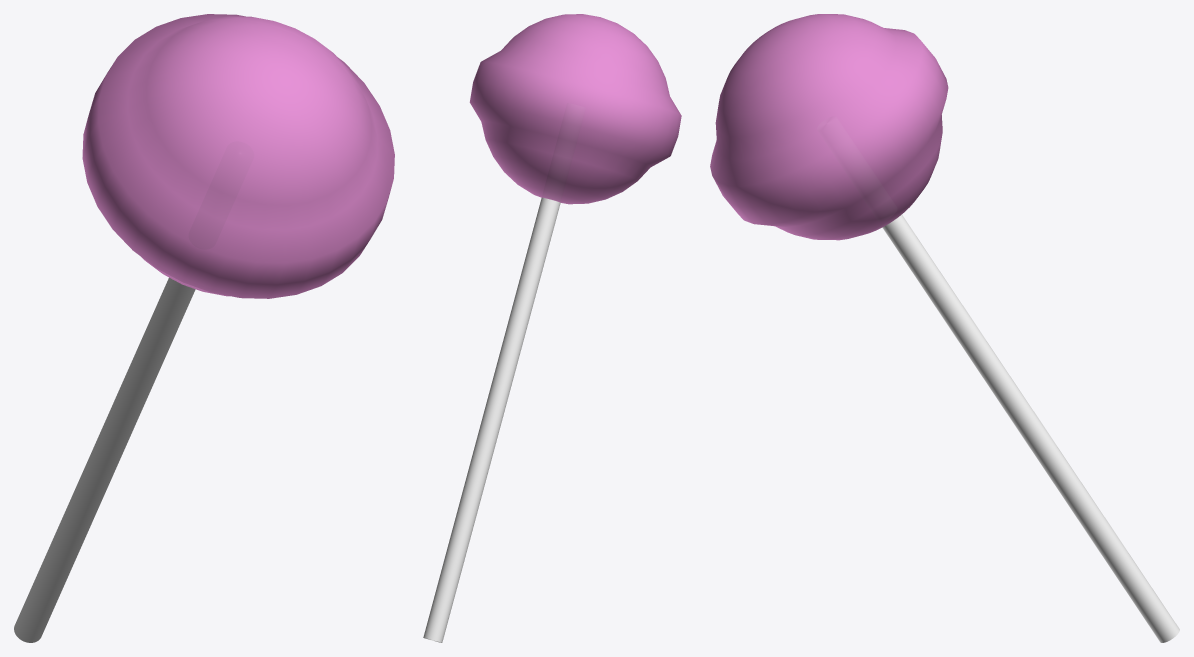
The model's file is Lollipop.glb.
The picture shows the model from 3 angles, left to right: view 1: azimuth 30°, elevation 25°; view 2: azimuth 150°, elevation 25°; view 3: azimuth 270°, elevation 25°; orthographic projection. The views are drawn at different scales.
Visible parts, largest first — view 1: Sphere_1, Cylinder_0; view 2: Sphere_1, Cylinder_0; view 3: Sphere_1, Cylinder_0.
Boxes of the visible parts, <box> form: Sphere_1: <box>82,14,394,298</box>; Cylinder_0: <box>14,277,195,642</box>; Sphere_1: <box>469,14,681,204</box>; Cylinder_0: <box>423,197,560,642</box>; Sphere_1: <box>710,14,948,240</box>; Cylinder_0: <box>882,214,1179,642</box>.
Bounding box in the file's own units: 4.82 × 12.93 × 8.92.
